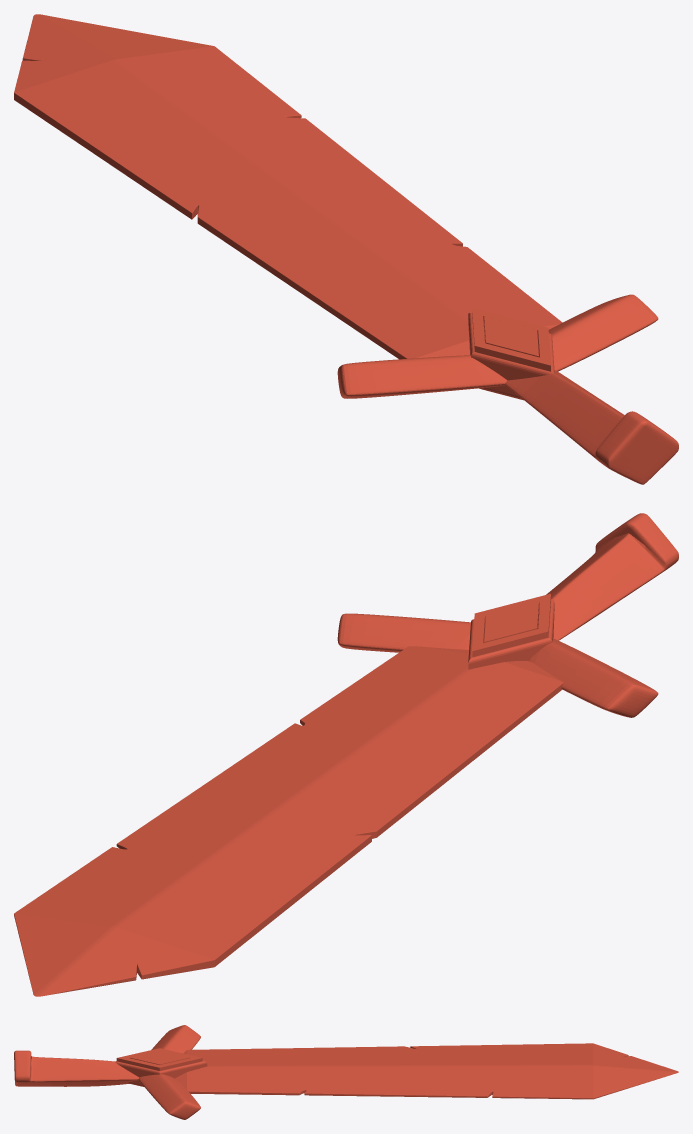
The model's file is sword.fbx.
3 renders of one model, top to bottom at view 1: azimuth 30°, elevation 25°; view 2: azimuth 150°, elevation 25°; view 3: azimuth 270°, elevation 25°, orthographic. The views are drawn at different scales.
Visible parts, largest first — view 1: sowrd.001; view 2: sowrd.001; view 3: sowrd.001.
Part boxes in pixels (x1=…): sowrd.001: x1=14, y1=14, x2=678, y2=484; sowrd.001: x1=14, y1=513, x2=678, y2=996; sowrd.001: x1=14, y1=1025, x2=678, y2=1119.
Bounding box in the file's own units: 161 × 32.19 × 544.
